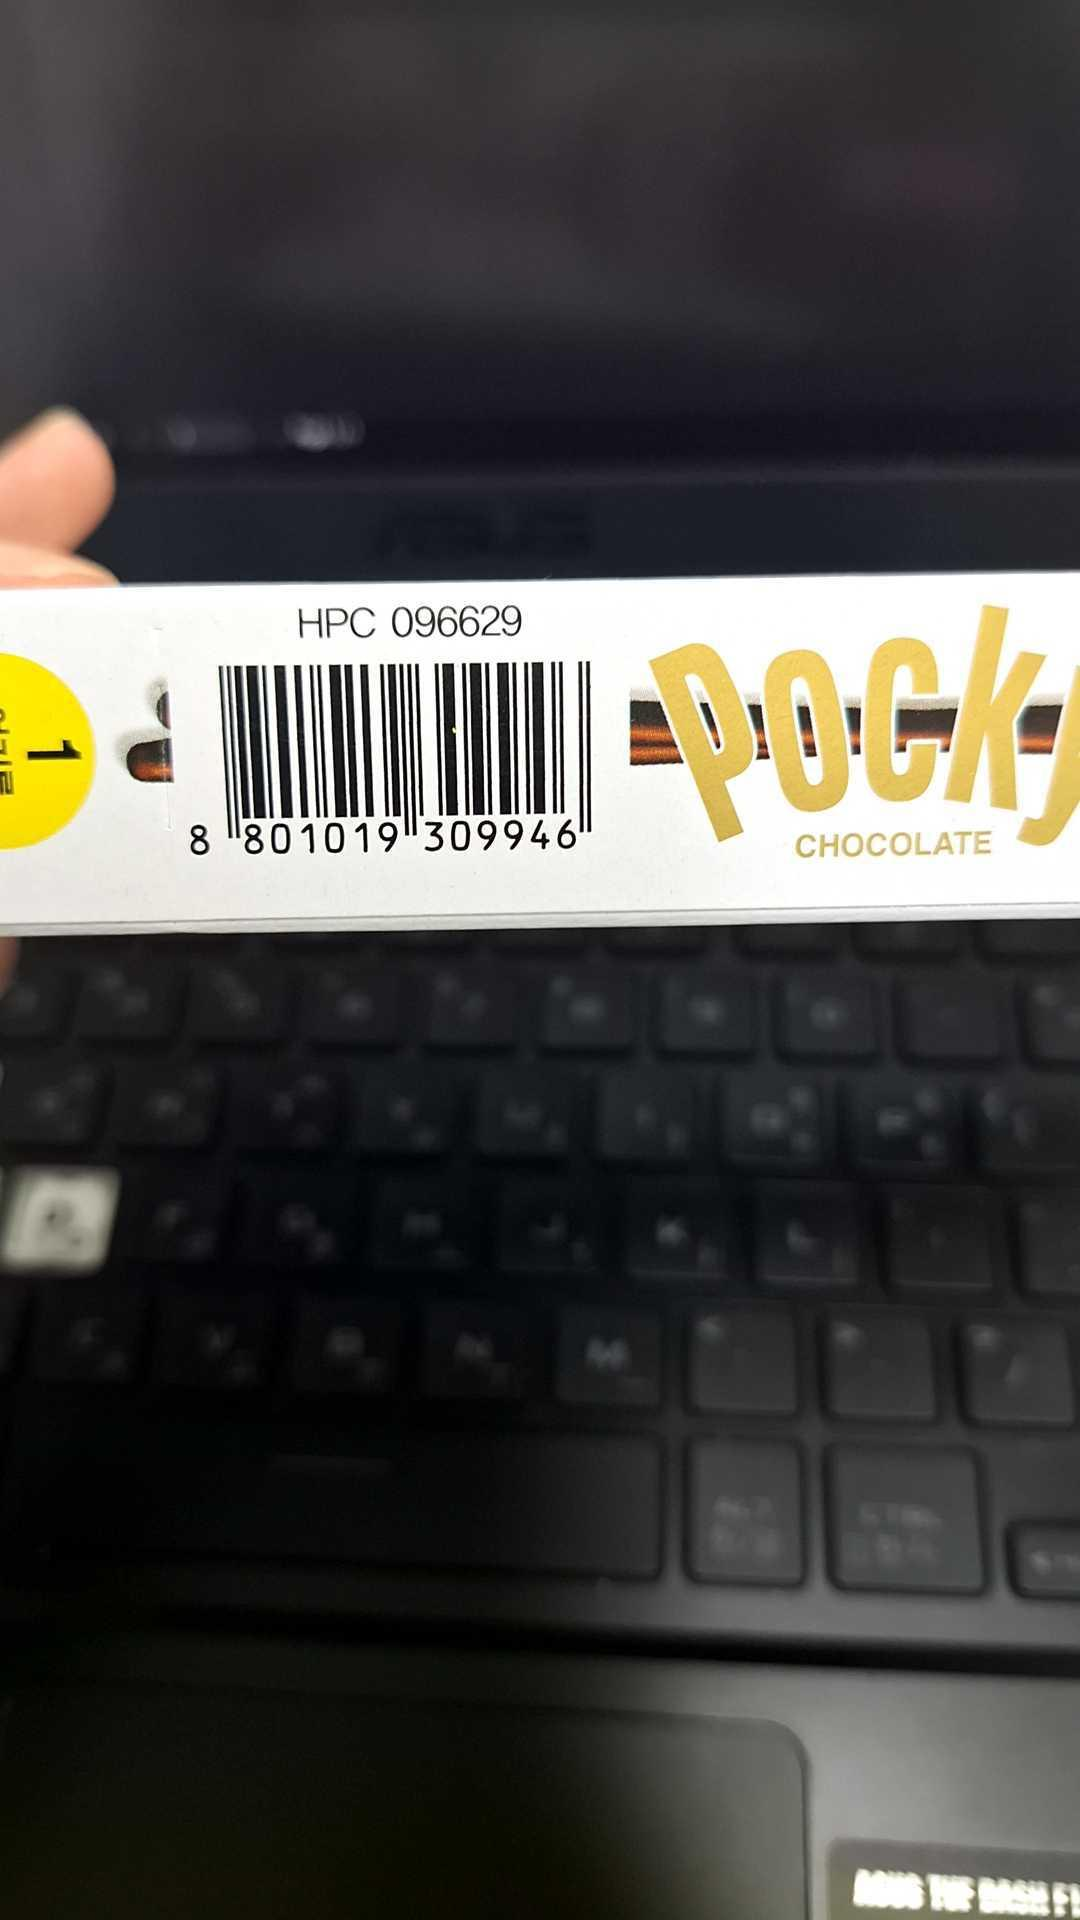whitepocky-1800-2025-8-10: (182, 655, 608, 862)
